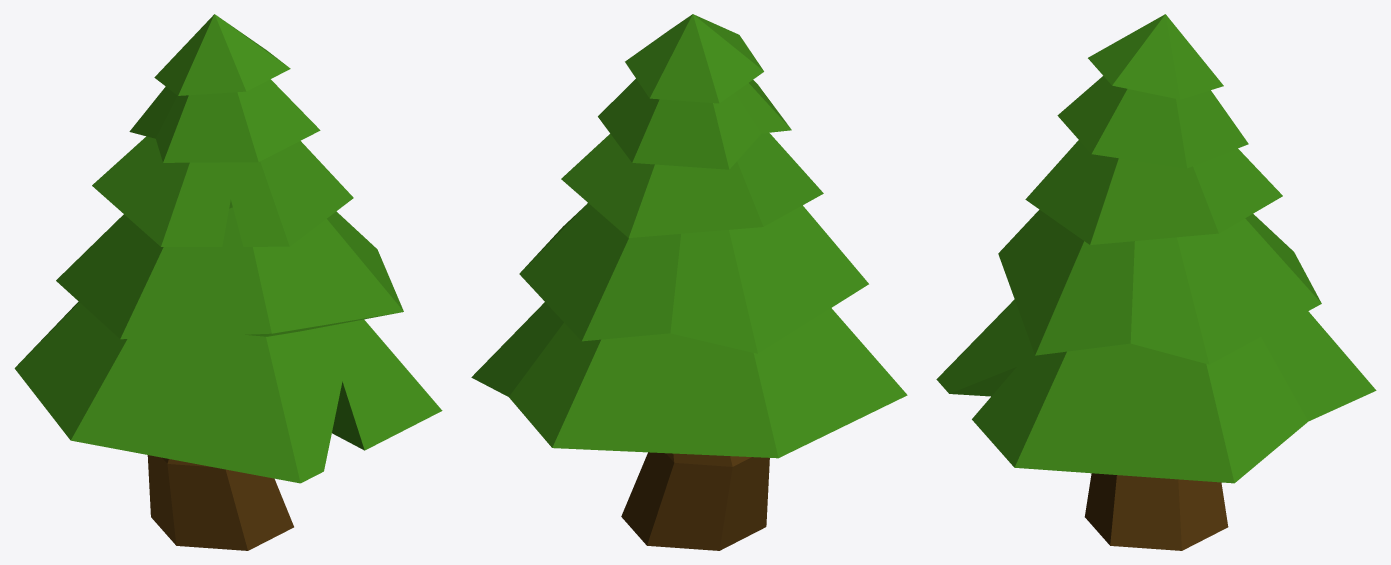
The model's file is arbol2.fbx.
The picture shows the model from 3 angles, left to right: view 1: azimuth 30°, elevation 25°; view 2: azimuth 150°, elevation 25°; view 3: azimuth 270°, elevation 25°; orthographic projection.
Visible parts, largest first — view 1: Cylinder; view 2: Cylinder; view 3: Cylinder.
Boxes of the visible parts, left/top/right/bottom form: Cylinder: left=14, top=14, right=442, bottom=550; Cylinder: left=471, top=14, right=907, bottom=550; Cylinder: left=936, top=14, right=1376, bottom=550.
Size of the model in its own units: 354 by 472 by 372.
